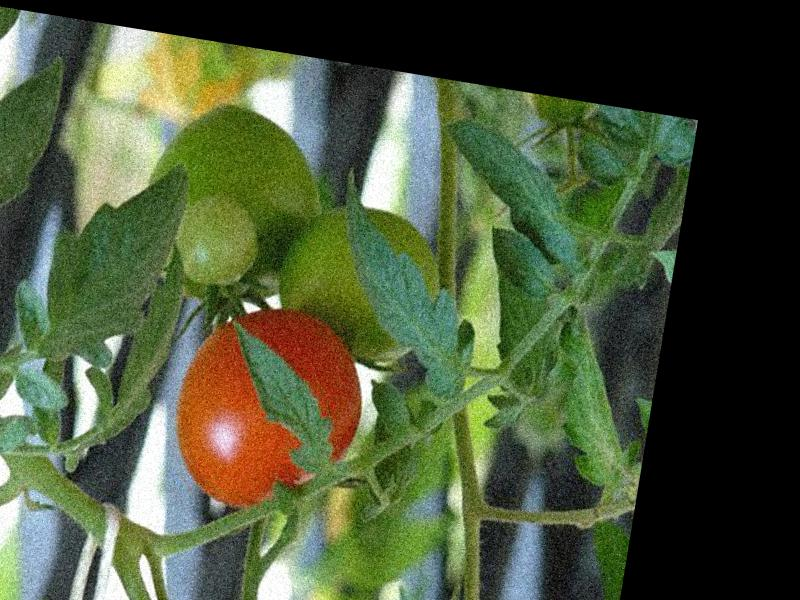Tomato: (161, 296, 374, 525)
